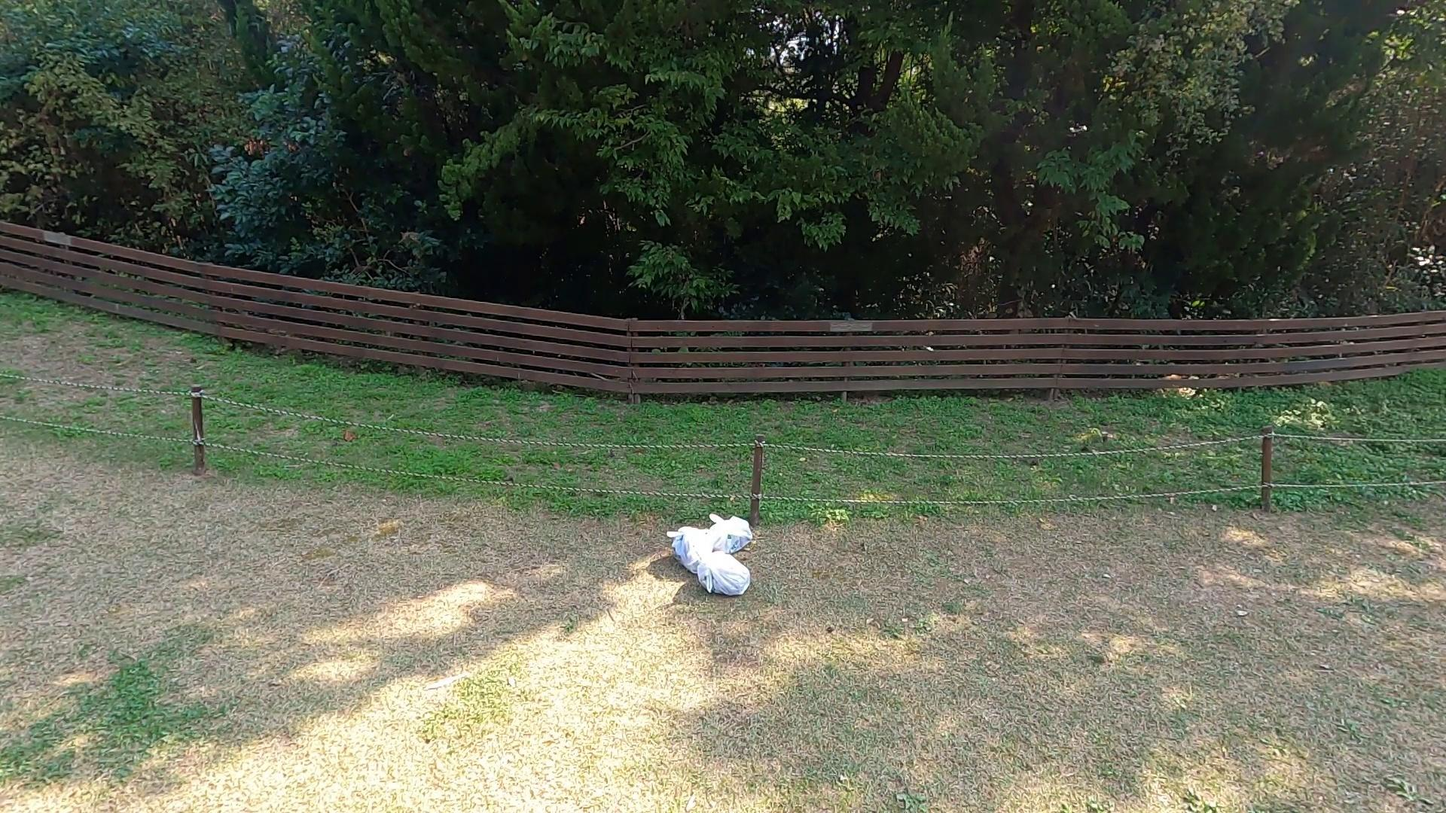trash: (666, 523, 729, 572), (694, 551, 755, 597), (702, 512, 752, 551)
